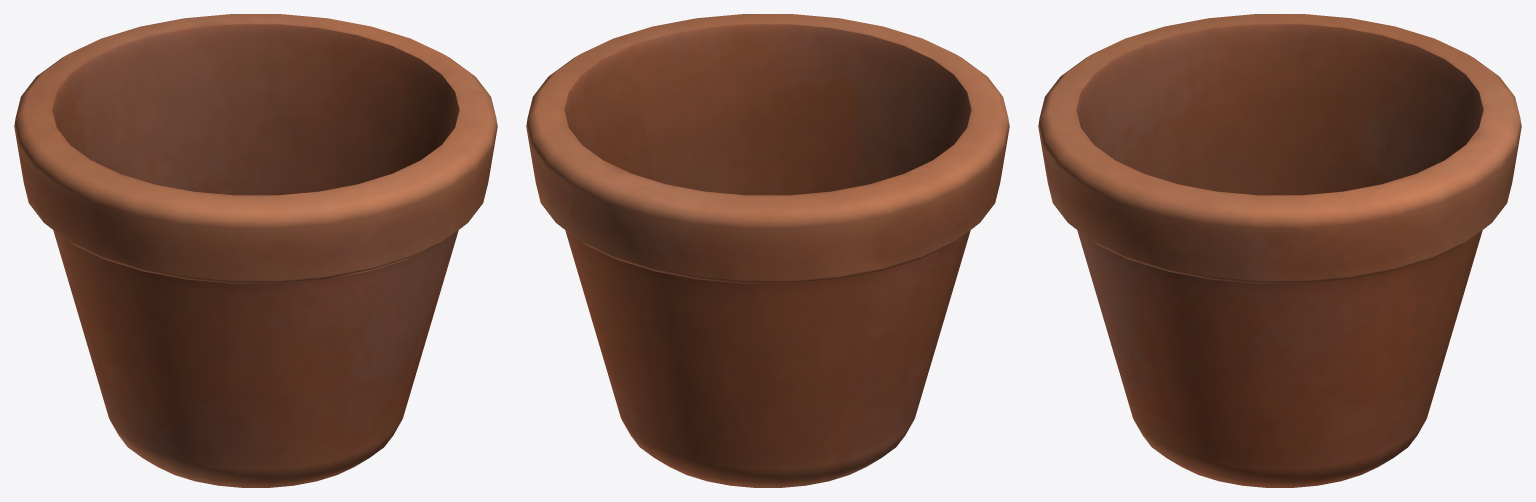
The model's file is SM_Pot_08.fbx.
3 renders of one model, left to right at view 1: azimuth 30°, elevation 25°; view 2: azimuth 150°, elevation 25°; view 3: azimuth 270°, elevation 25°, orthographic.
Parts seen in each view (by area): view 1: SM_Pot_08_LOD0; view 2: SM_Pot_08_LOD0; view 3: SM_Pot_08_LOD0.
Part boxes in pixels (box(x1,y1,x2,y2)): SM_Pot_08_LOD0: box(14, 14, 497, 487); SM_Pot_08_LOD0: box(526, 14, 1009, 487); SM_Pot_08_LOD0: box(1038, 14, 1521, 487).
Size of the model in its own units: 19.15 by 19.26 by 14.6.
Materials: 1 (1 with a texture image).
